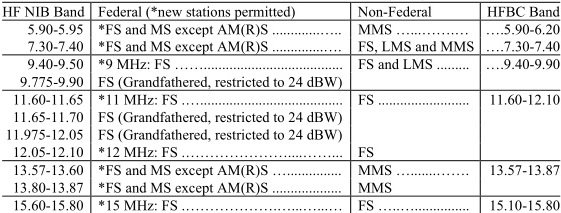column: (98, 1, 344, 213), (357, 1, 474, 213), (2, 1, 84, 213), (486, 1, 559, 213)
row: (1, 92, 561, 107), (1, 57, 561, 71), (1, 5, 561, 18), (1, 22, 561, 35), (1, 164, 561, 177), (1, 181, 561, 194), (1, 40, 561, 52), (1, 76, 561, 88), (1, 111, 561, 123), (1, 129, 561, 141), (1, 146, 561, 158), (1, 200, 561, 210)
